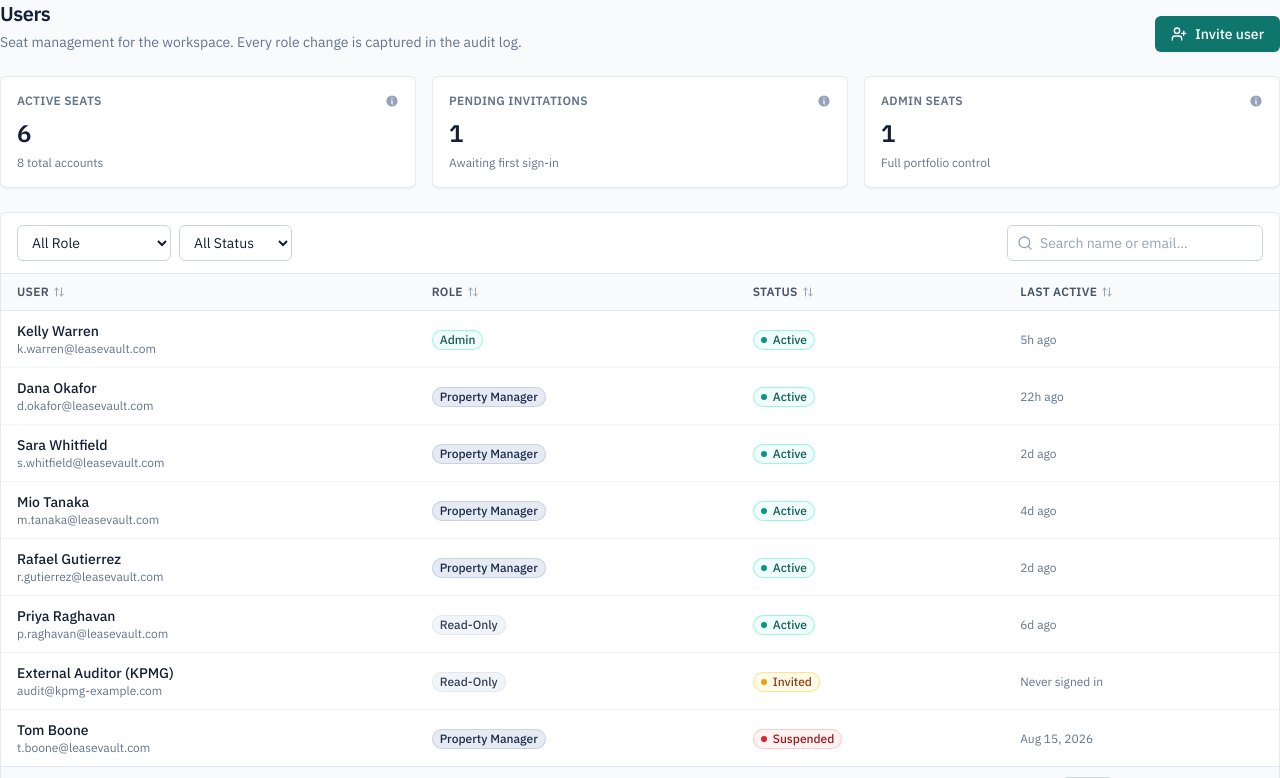
Test: UsersView › adds an invited seat through the modal and surfaces it in the table
Click the button "Invite user" at [1218, 34], box top-left (1155, 16), bottom-right (1279, 52)
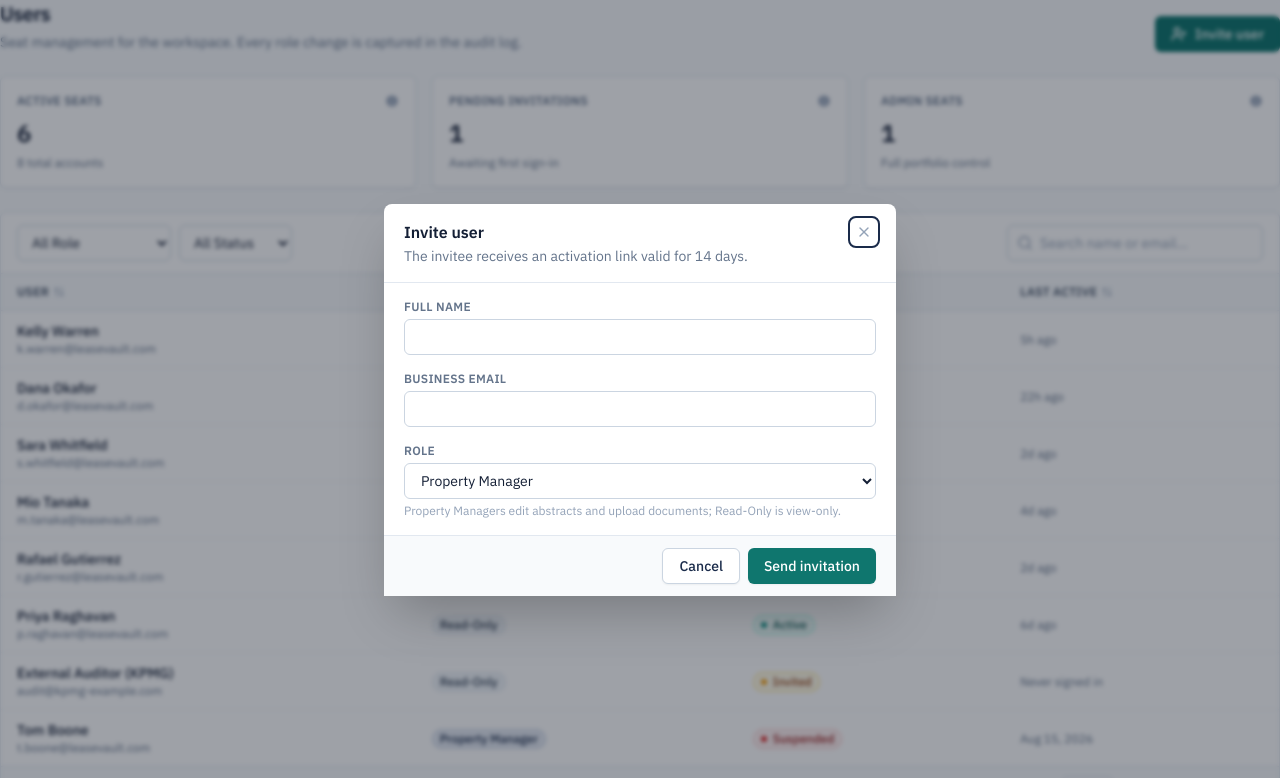
Type "New Property Manager" into the field with id "invite-name" at [640, 337], box top-left (404, 319), bottom-right (876, 355)
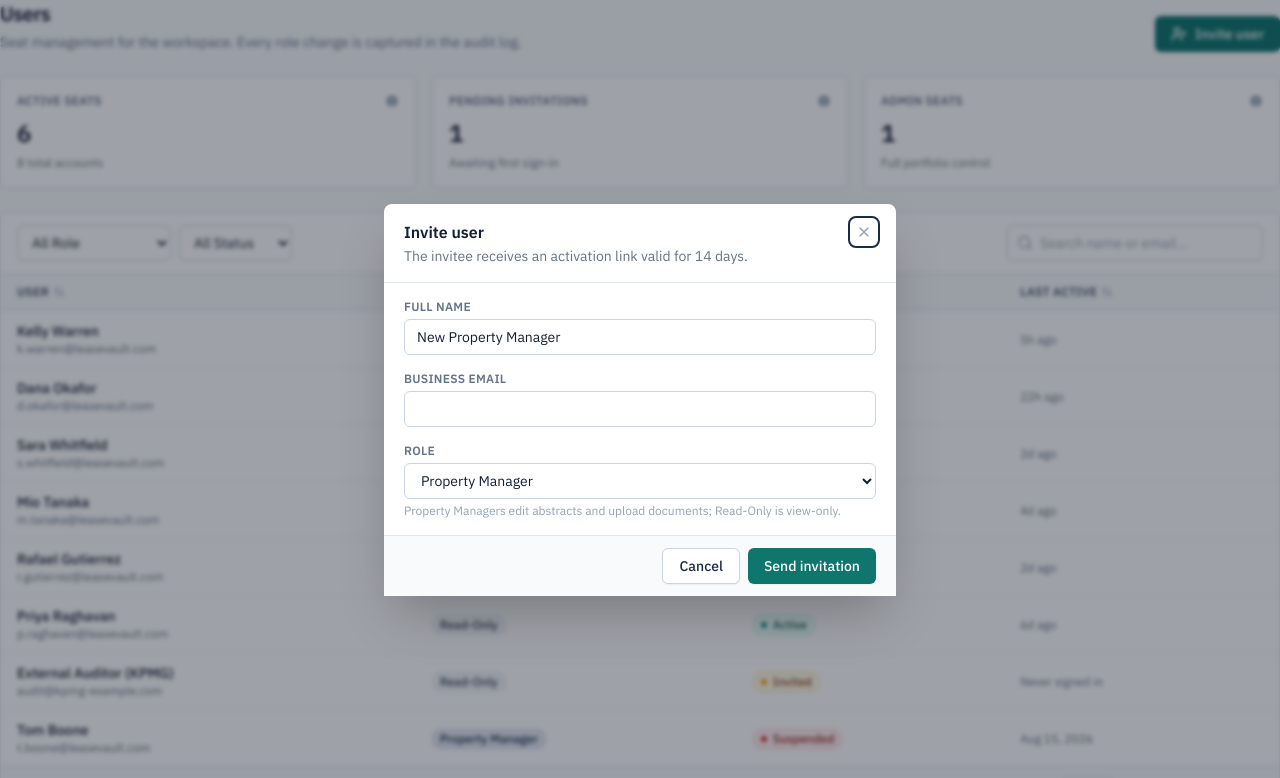
Type "new.pm@leasevault.com" into the field with id "invite-email" at [640, 409], box top-left (404, 391), bottom-right (876, 427)
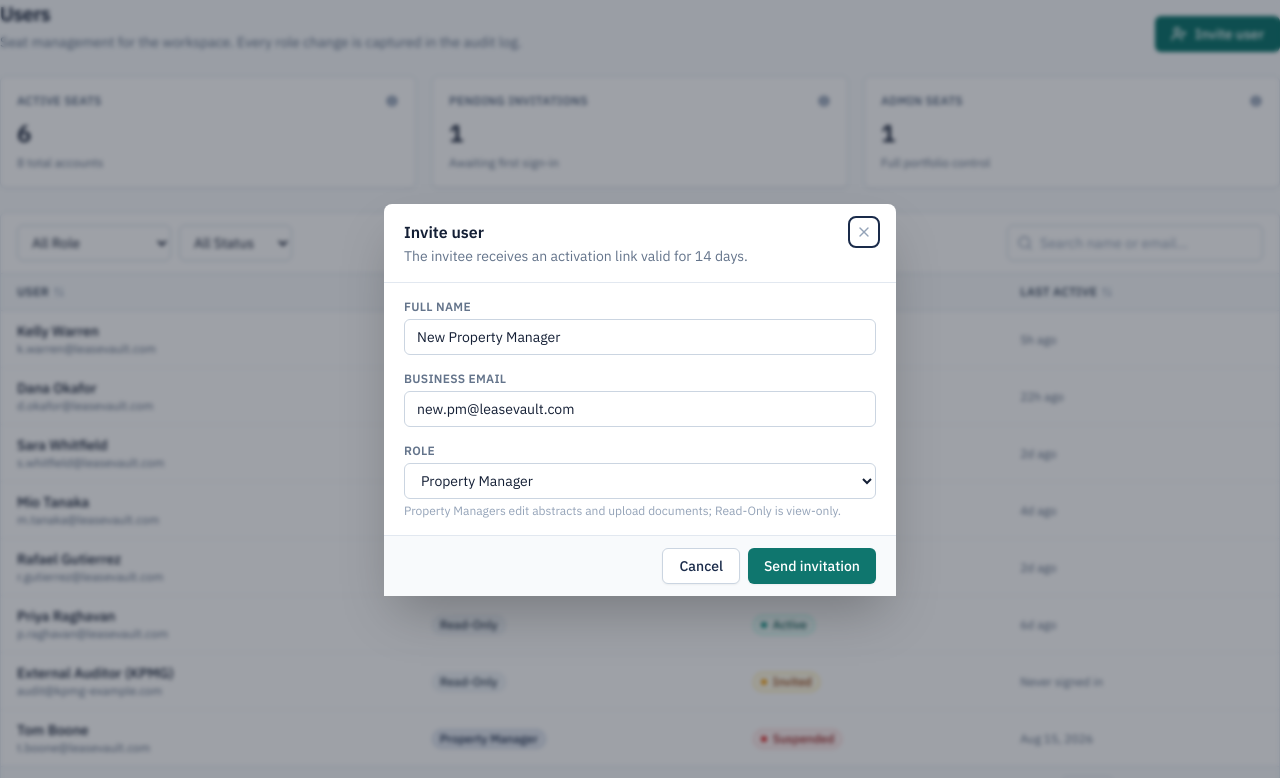
Submit the form with id "invite-user-form", box top-left (404, 299), bottom-right (876, 519)
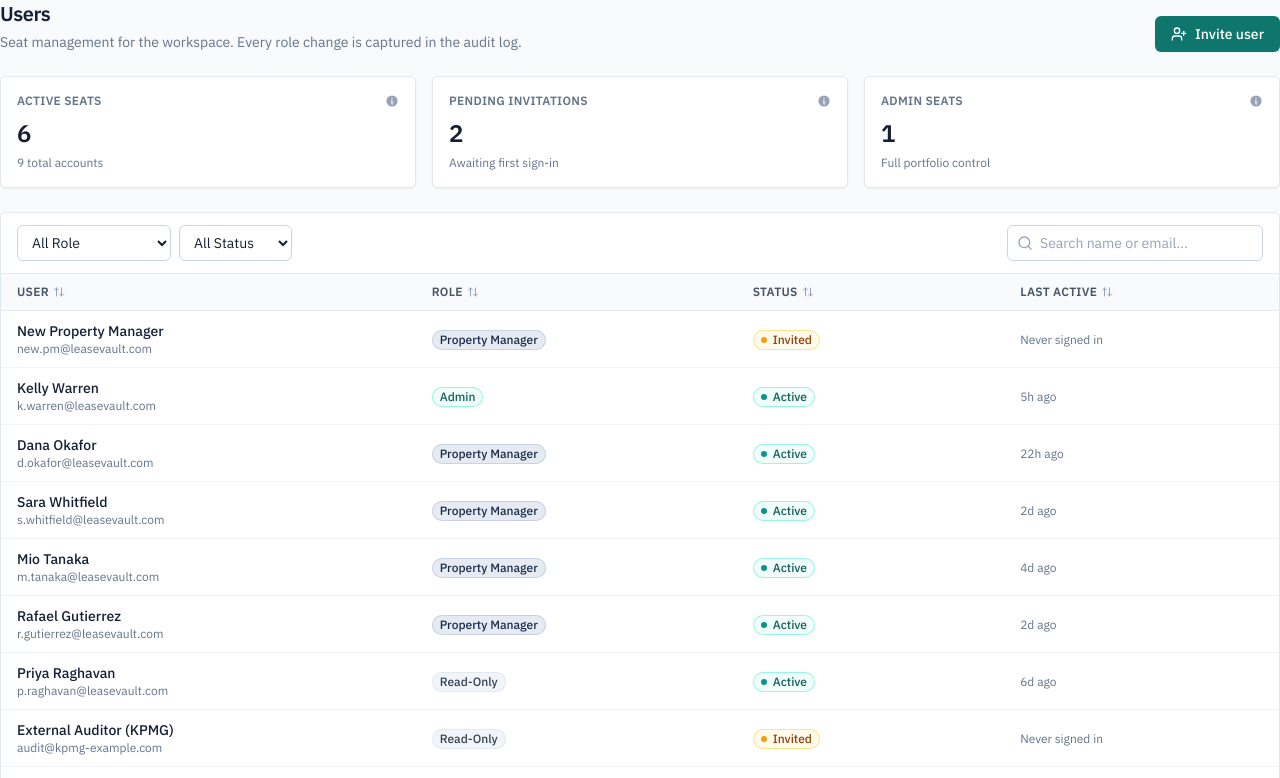
Expected: the text "New Property Manager" is shown, top-left (17, 322), bottom-right (164, 340)
Expected: the text "new.pm@leasevault.com" is shown, top-left (17, 341), bottom-right (152, 356)
Expected: the text "Invited" is shown, top-left (753, 330), bottom-right (820, 350)
